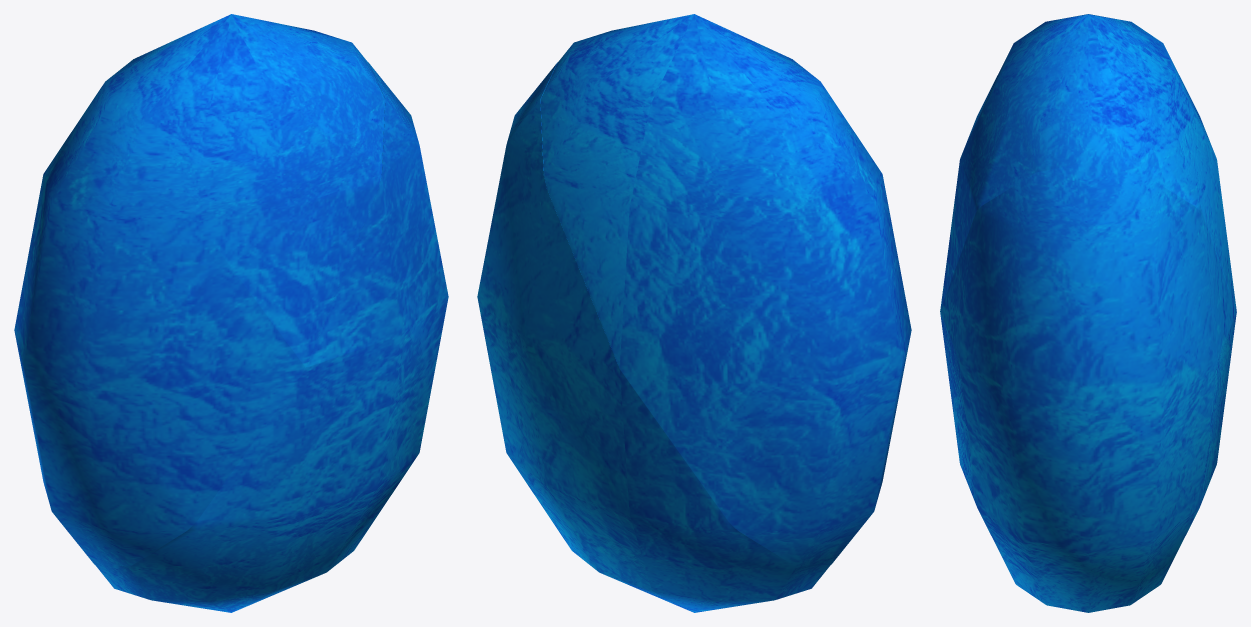
Rendered from candy_freez_cut.FBX.
3 renders of one model, left to right at view 1: azimuth 30°, elevation 25°; view 2: azimuth 150°, elevation 25°; view 3: azimuth 270°, elevation 25°, orthographic.
Parts seen in each view (by area): view 1: part1, part2; view 2: part1, part2; view 3: part2, part1.
Boxes of the visible parts, x1,y1,x2,y2 form: part1: [14, 14, 385, 566]; part2: [95, 62, 448, 612]; part1: [540, 14, 911, 566]; part2: [477, 62, 830, 612]; part2: [940, 162, 1236, 612]; part1: [940, 14, 1236, 312].
Bounding box in the file's own units: 27.68 × 38.17 × 17.29.
